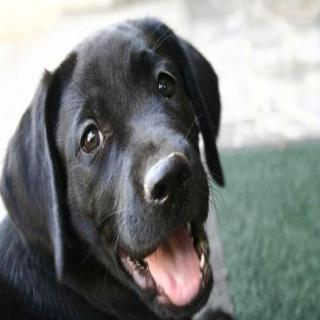dog: (0, 24, 238, 319)
nose: (138, 146, 197, 208)
